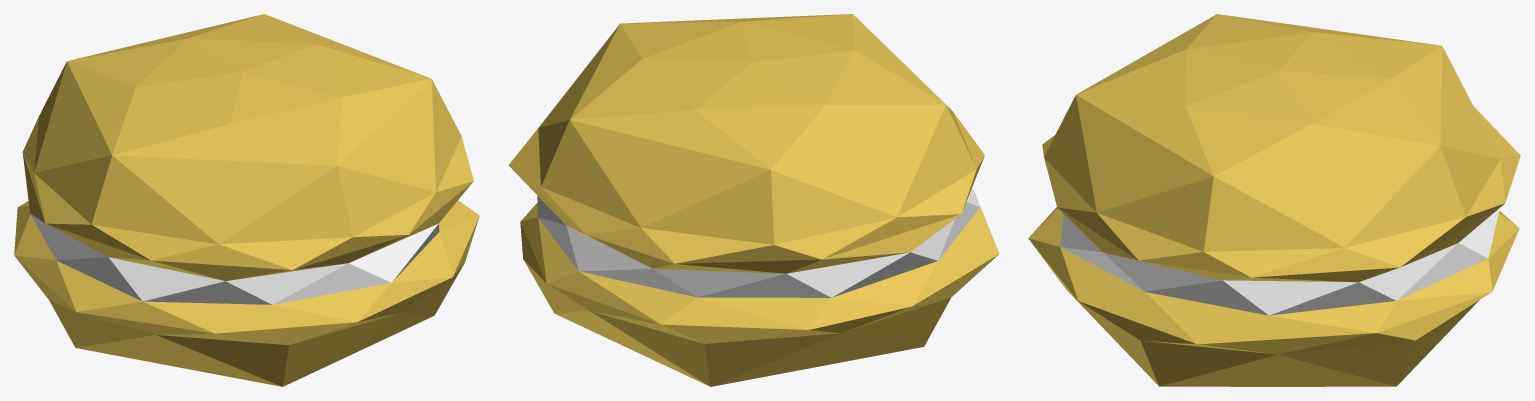
File: macaron_yellow.fbx
3 renders of one model, left to right at view 1: azimuth 30°, elevation 25°; view 2: azimuth 150°, elevation 25°; view 3: azimuth 270°, elevation 25°, orthographic. The views are drawn at different scales.
Visible parts, largest first — view 1: macaronyellow; view 2: macaronyellow; view 3: macaronyellow.
Boxes of the visible parts, bbox=[...] form: macaronyellow: bbox=[14, 14, 479, 386]; macaronyellow: bbox=[508, 14, 999, 386]; macaronyellow: bbox=[1028, 14, 1520, 386].
Bounding box in the file's own units: 4.97 × 3.07 × 5.02.
